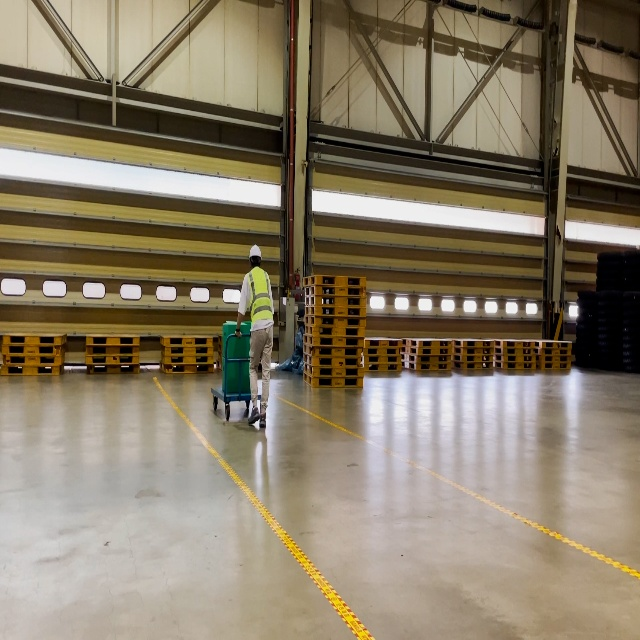Box: (222, 321, 253, 359), (222, 356, 251, 394)
Worker: (234, 243, 274, 427)
